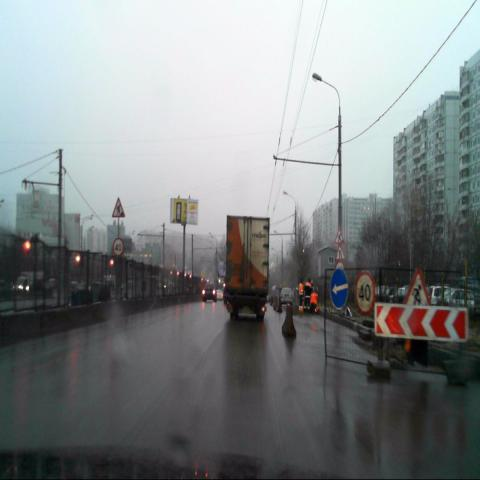1_25: (403, 268, 432, 318)
4_1_2_2: (330, 268, 348, 309)
